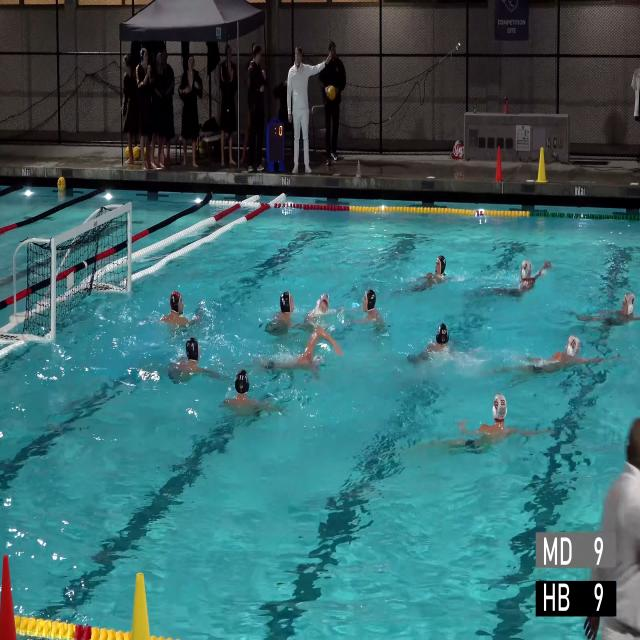ball: (133, 146, 141, 161), (57, 177, 66, 190), (328, 85, 335, 100), (144, 147, 151, 160), (125, 146, 130, 160)
